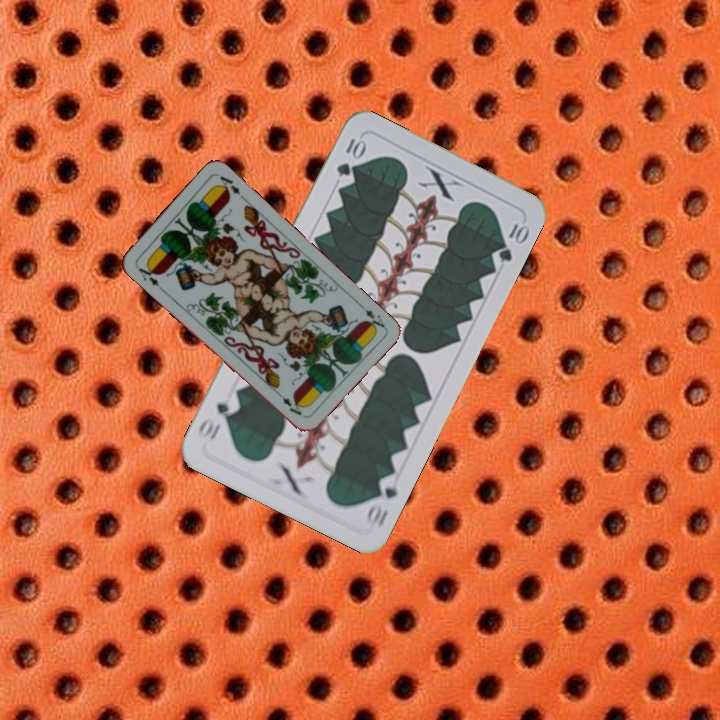EA: (354, 299, 387, 334), (132, 261, 165, 293)
G10: (362, 471, 400, 530), (332, 133, 368, 179)
